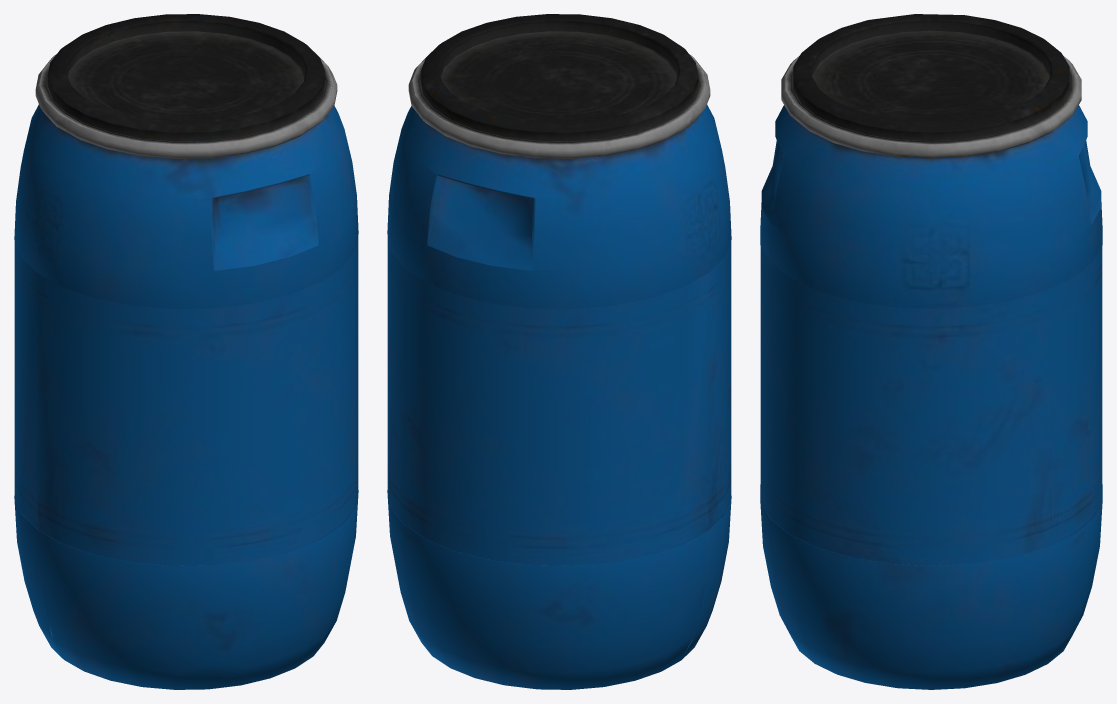
File: Barrel_02.glb
3 renders of one model, left to right at view 1: azimuth 30°, elevation 25°; view 2: azimuth 150°, elevation 25°; view 3: azimuth 270°, elevation 25°, orthographic.
Parts seen in each view (by area): view 1: Barrel_02; view 2: Barrel_02; view 3: Barrel_02.
Part boxes in pixels (bbox=[...]): Barrel_02: bbox=[14, 14, 358, 689]; Barrel_02: bbox=[387, 14, 731, 689]; Barrel_02: bbox=[760, 14, 1102, 689].
Bounding box in the file's own units: 0.4882 × 0.88 × 0.4846.
1 material, 1 textured.
